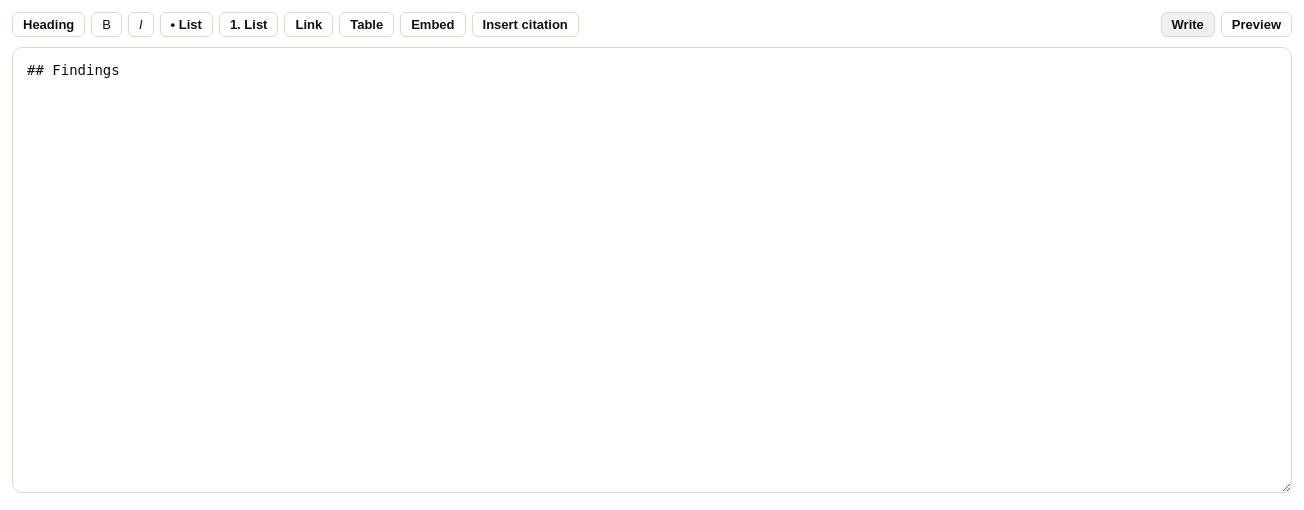
Test case: preview › keeps the Write/Preview toggle on a narrow screen
What coordinates should you click on to do the following:
click the button with test id "toggle-preview"
I would click on:
 (1256, 24)
Its box is 1221,12 -> 1292,37.
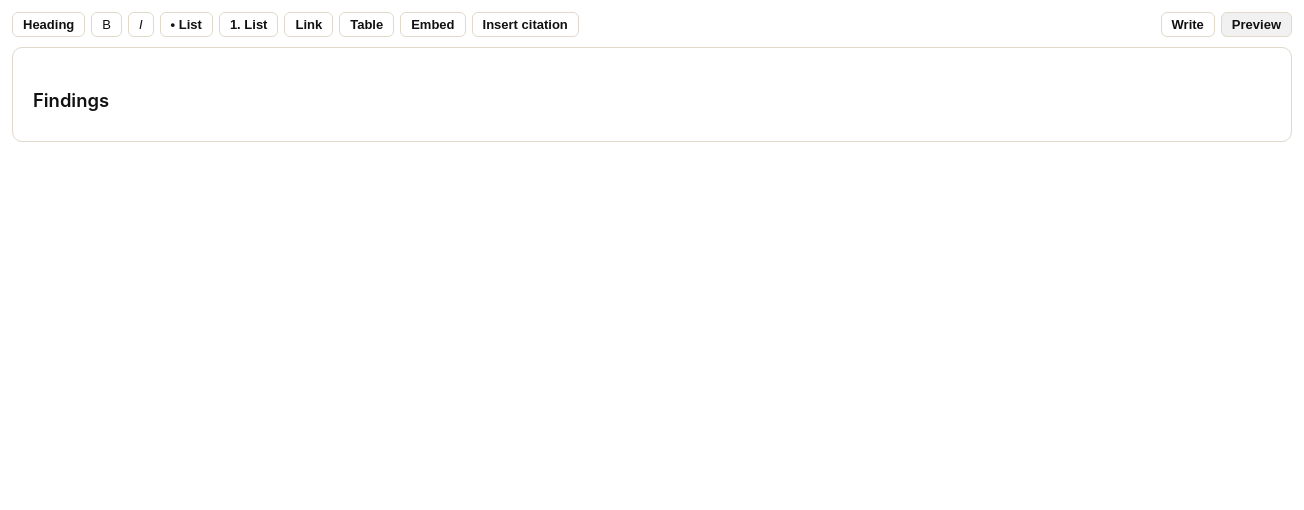
What coordinates should you click on to do the following:
click the button with test id "toggle-write"
I would click on:
 (1188, 24)
Its box is 1161,12 -> 1215,37.
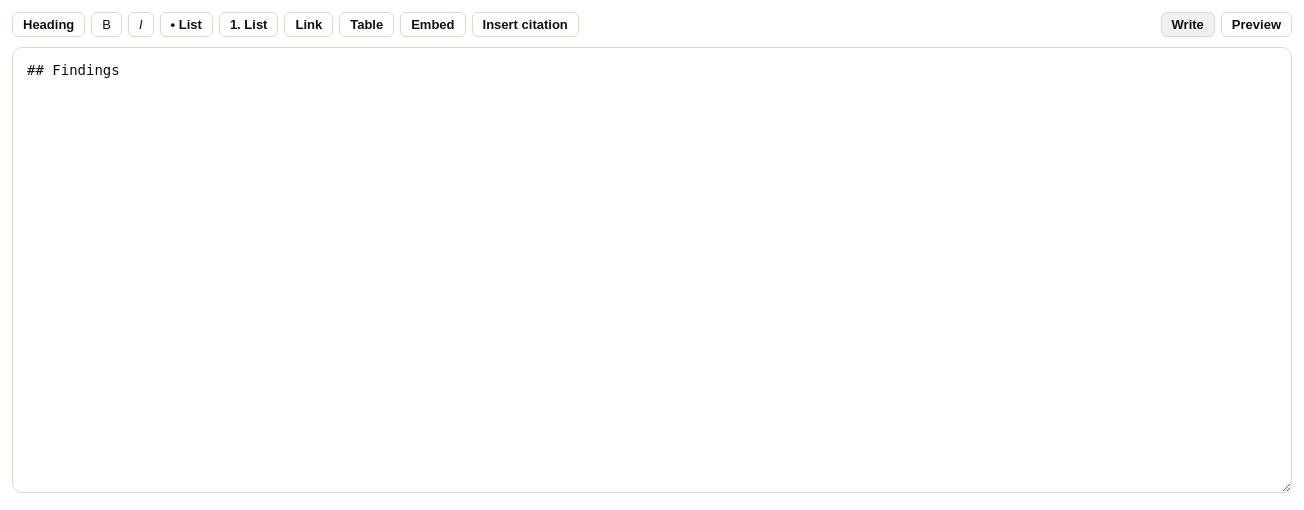
expect the text box with test id "editor-textarea" is shown: met
